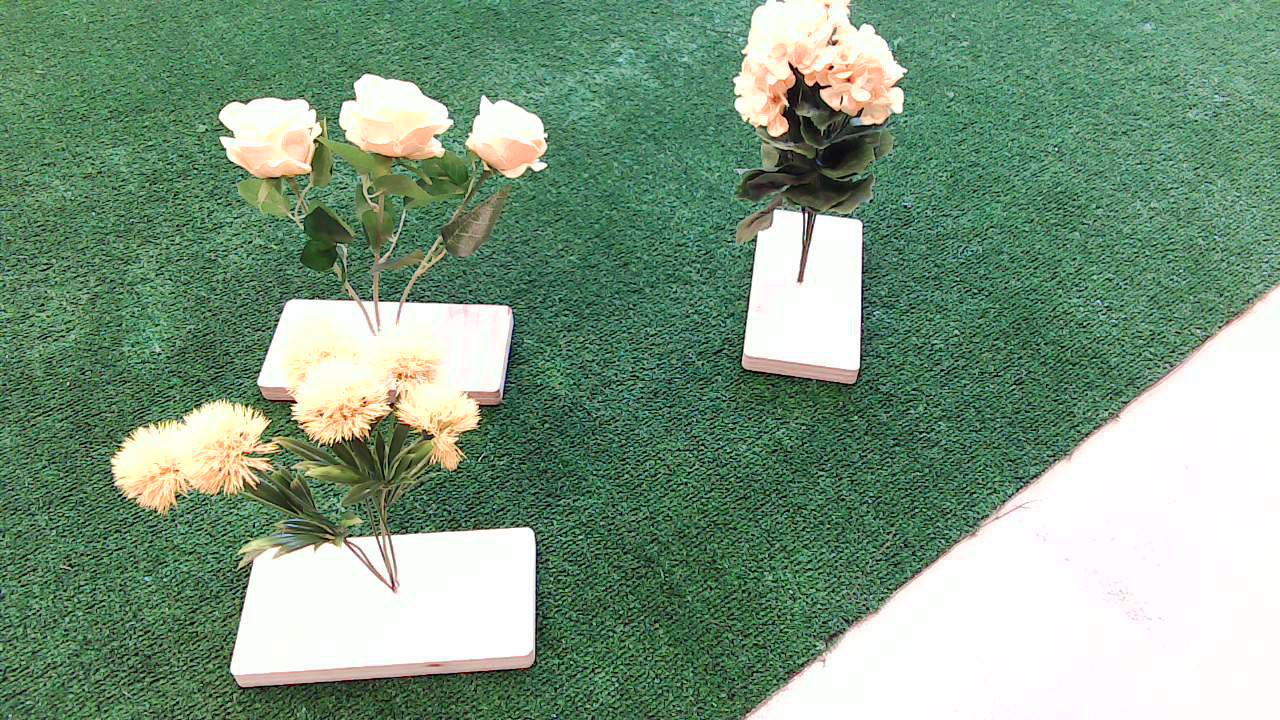dandelion: (82, 337, 496, 575)
geranium: (720, 3, 927, 279)
rose: (188, 70, 584, 296)
